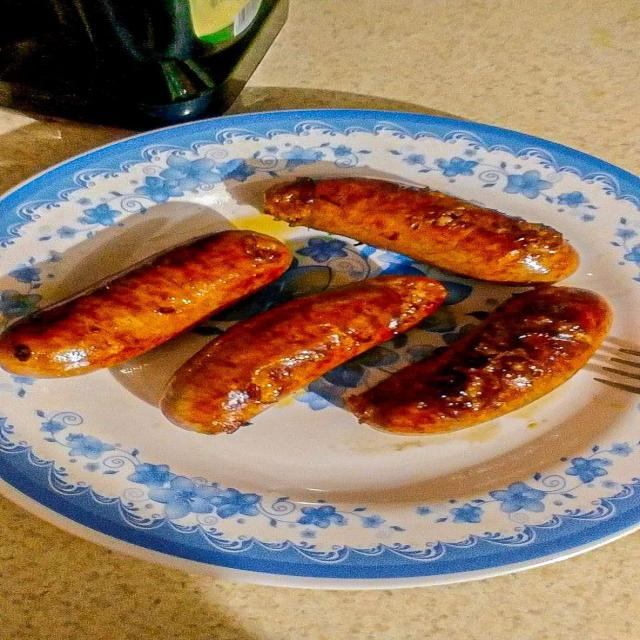sausage: (161, 276, 445, 433), (0, 231, 291, 377), (348, 287, 610, 434), (265, 179, 578, 284)
